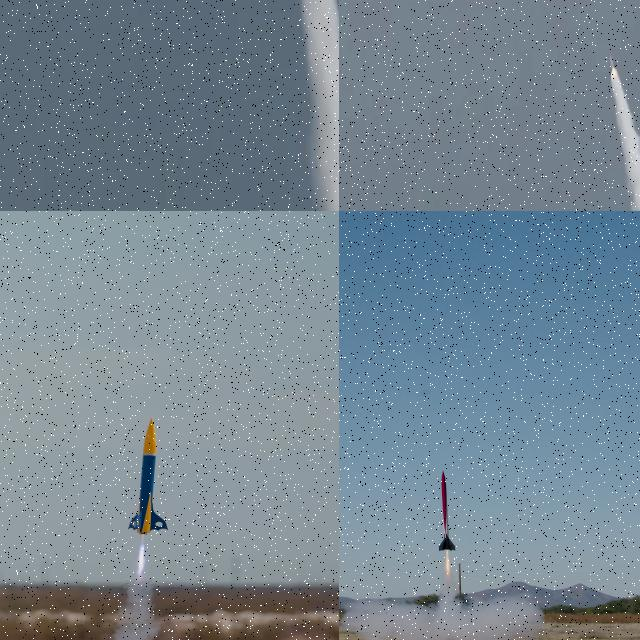Rocket: (127, 417, 169, 536), (438, 470, 457, 552), (609, 55, 616, 72)
